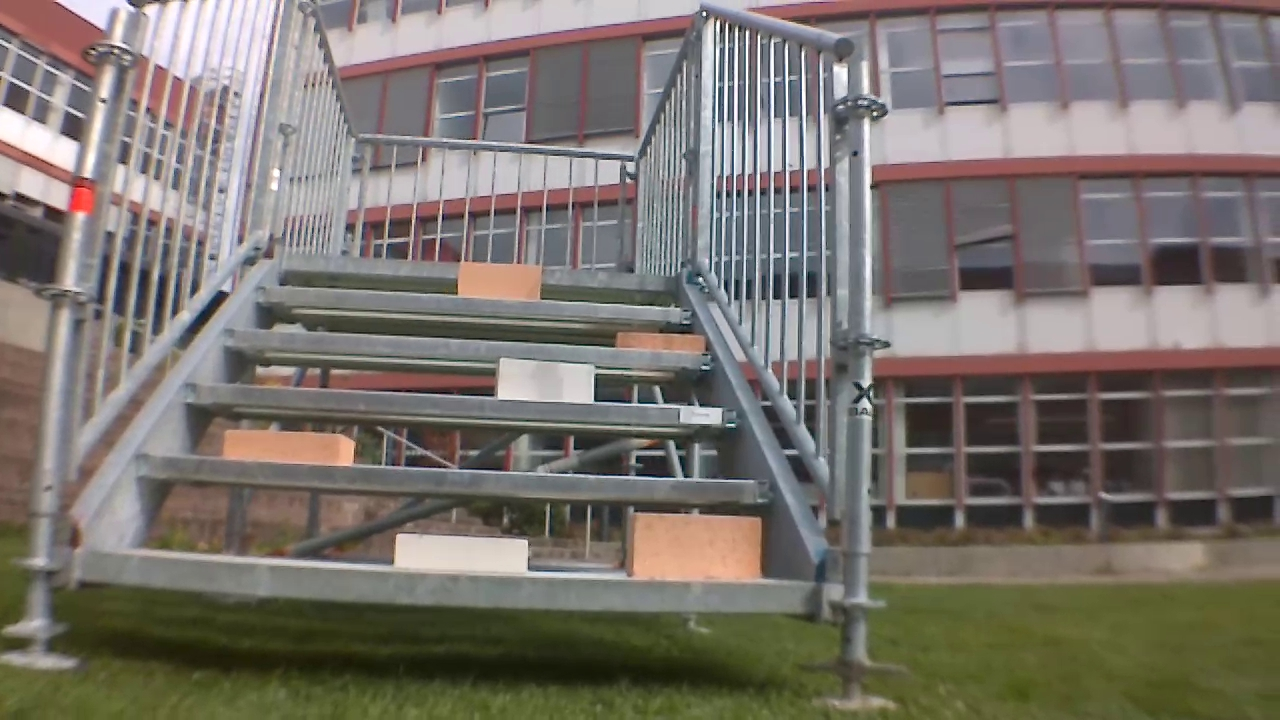brick: (620, 512, 770, 575), (390, 533, 528, 571), (487, 364, 601, 402), (221, 430, 358, 461), (456, 263, 544, 299), (615, 333, 712, 351)
edge: (77, 545, 813, 617), (139, 449, 768, 502), (179, 384, 737, 430), (224, 331, 717, 370), (255, 283, 690, 320), (286, 246, 666, 284)
stairs: (31, 2, 848, 641)
steps: (63, 254, 808, 595)
